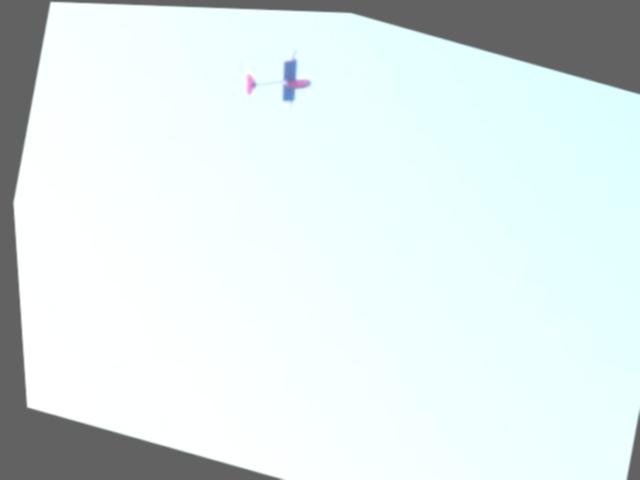uav: (233, 42, 319, 115)
